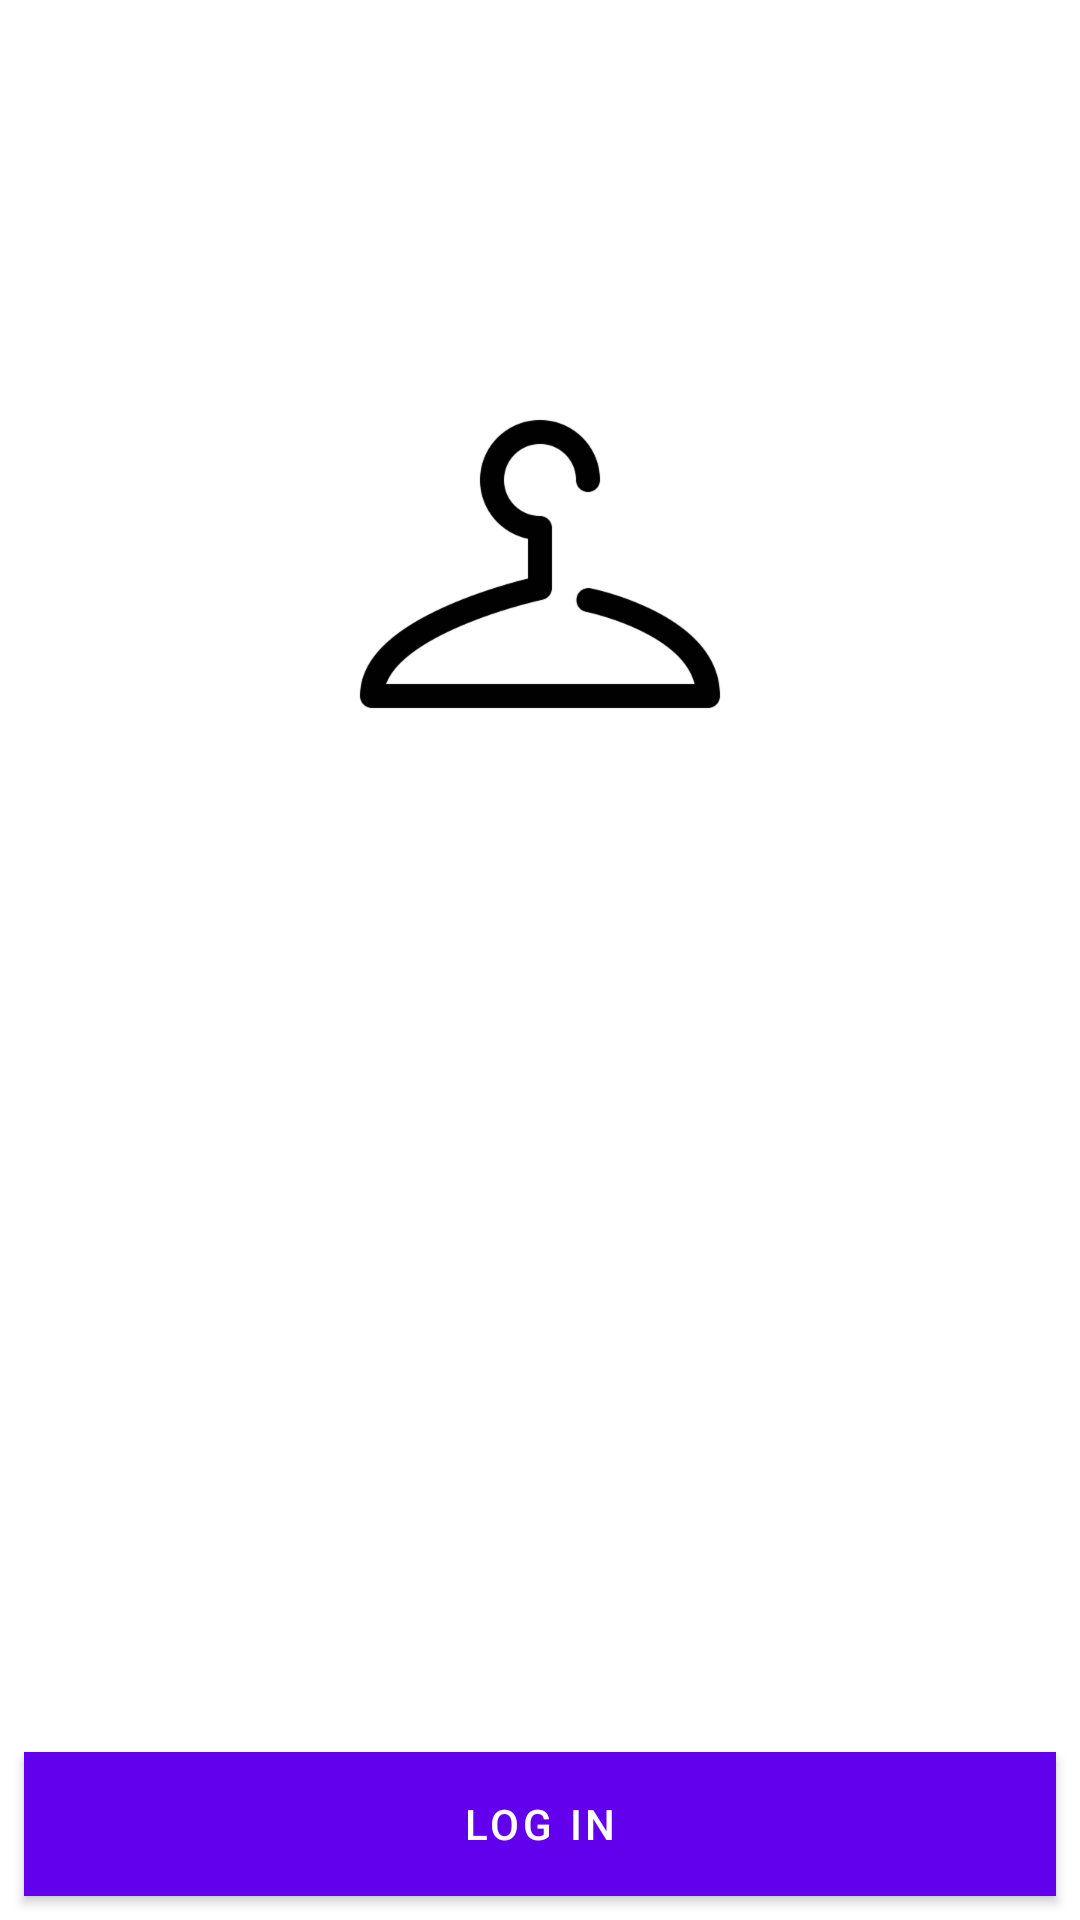

Locate icon controls on the screen. Image size 1080 x 1920, boxes as (x1, y1, x2, y2).
hanger: (360, 420, 720, 708)
